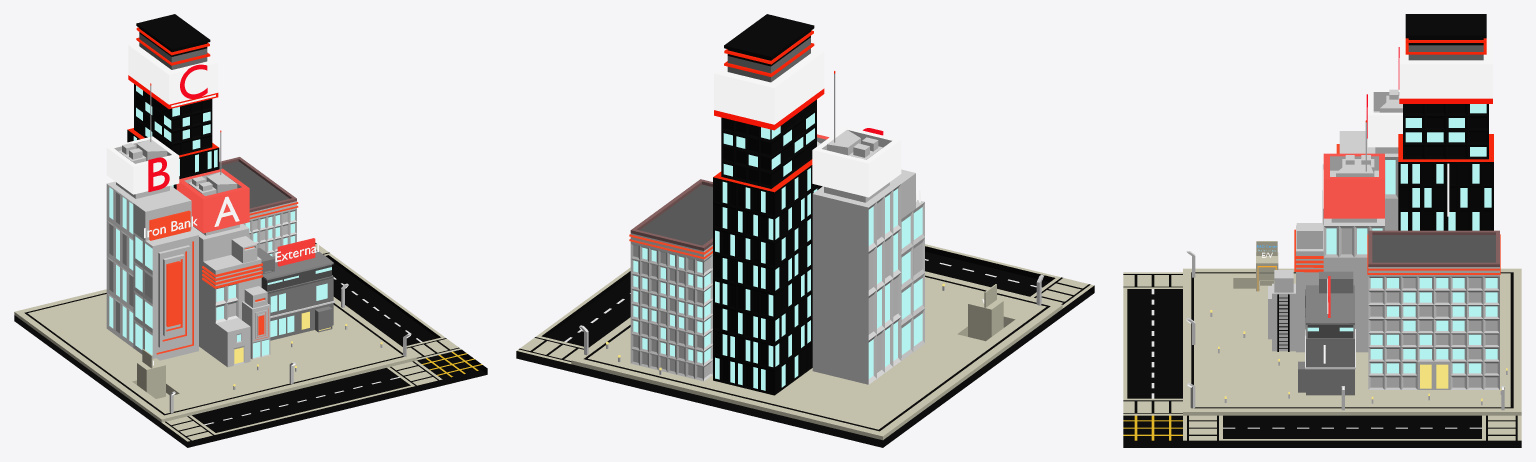
The model's file is cyberpunk.glb.
The picture shows the model from 3 angles, left to right: view 1: azimuth 30°, elevation 25°; view 2: azimuth 150°, elevation 25°; view 3: azimuth 270°, elevation 25°; orthographic projection. The views are drawn at different scales.
Visible parts, largest first — view 1: Plane, Plane.009, Plane.007, Plane.006, Plane.003, Plane.005, Plane.002, Text.004; view 2: Plane.007, Plane, Plane.009, Plane.002; view 3: Plane, Plane.002, Plane.007, Plane.005, Plane.003, Plane.006, Plane.009, Cylinder, STREET LIGHT-PANEL.
Boxes of the visible parts, <box> form: Plane: <box>14,242,487,447</box>; Plane.009: <box>106,83,198,360</box>; Plane.007: <box>127,14,219,189</box>; Plane.006: <box>202,236,270,367</box>; Plane.003: <box>257,238,334,340</box>; Plane.005: <box>176,130,249,348</box>; Plane.002: <box>219,157,298,256</box>; Text.004: <box>148,157,169,191</box>; Plane.007: <box>713,14,824,395</box>; Plane: <box>516,244,1094,447</box>; Plane.009: <box>812,71,924,384</box>; Plane.002: <box>629,179,712,381</box>; Plane: <box>1123,241,1521,447</box>; Plane.002: <box>1367,230,1500,389</box>; Plane.007: <box>1398,14,1493,230</box>; Plane.005: <box>1296,120,1384,352</box>; Plane.003: <box>1298,271,1355,395</box>; Plane.006: <box>1268,223,1323,352</box>; Plane.009: <box>1322,89,1402,230</box>; Cylinder: <box>1277,294,1289,351</box>; STREET LIGHT-PANEL: <box>1186,251,1195,408</box>.
Size of what is drawn, in the model's own units: 10 by 9.01 by 10.
